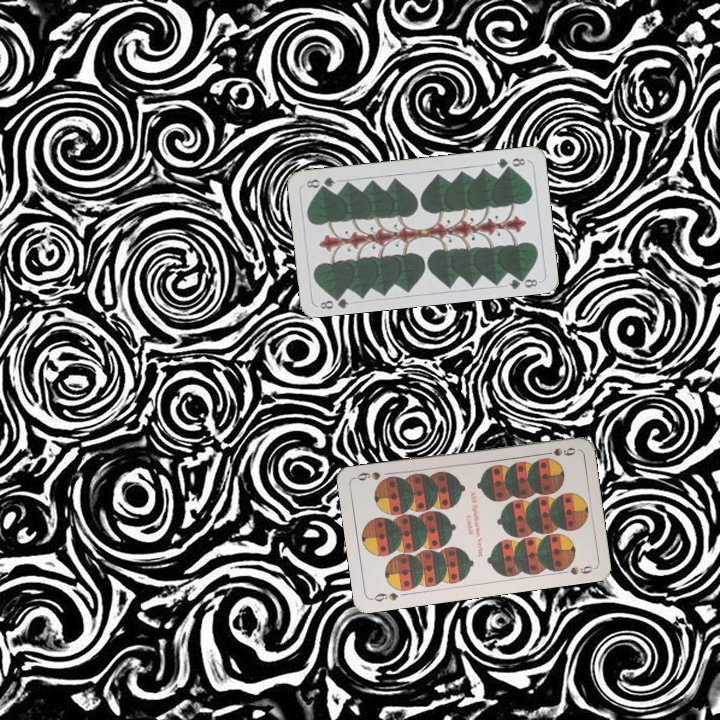G8: (316, 290, 351, 312), (492, 154, 528, 172)
S9: (538, 443, 578, 459), (368, 588, 400, 604)
